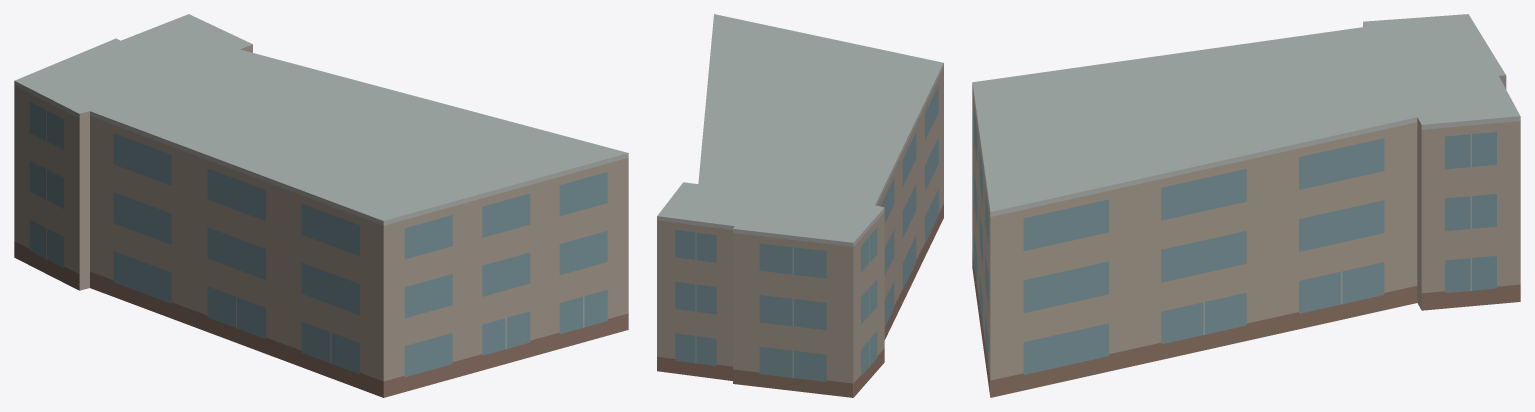
File: survey-upis-32484404.glb
The picture shows the model from 3 angles, left to right: view 1: azimuth 30°, elevation 25°; view 2: azimuth 150°, elevation 25°; view 3: azimuth 270°, elevation 25°; orthographic projection. The views are drawn at different scales.
Visible parts, largest first — view 1: survey-upis-32484404.tmp; view 2: survey-upis-32484404.tmp; view 3: survey-upis-32484404.tmp.
Part boxes in pixels (bbox=[...]): survey-upis-32484404.tmp: bbox=[14, 14, 628, 397]; survey-upis-32484404.tmp: bbox=[657, 14, 943, 397]; survey-upis-32484404.tmp: bbox=[972, 14, 1520, 397].
Size of the model in its own units: 20.95 by 9.15 by 24.48.
